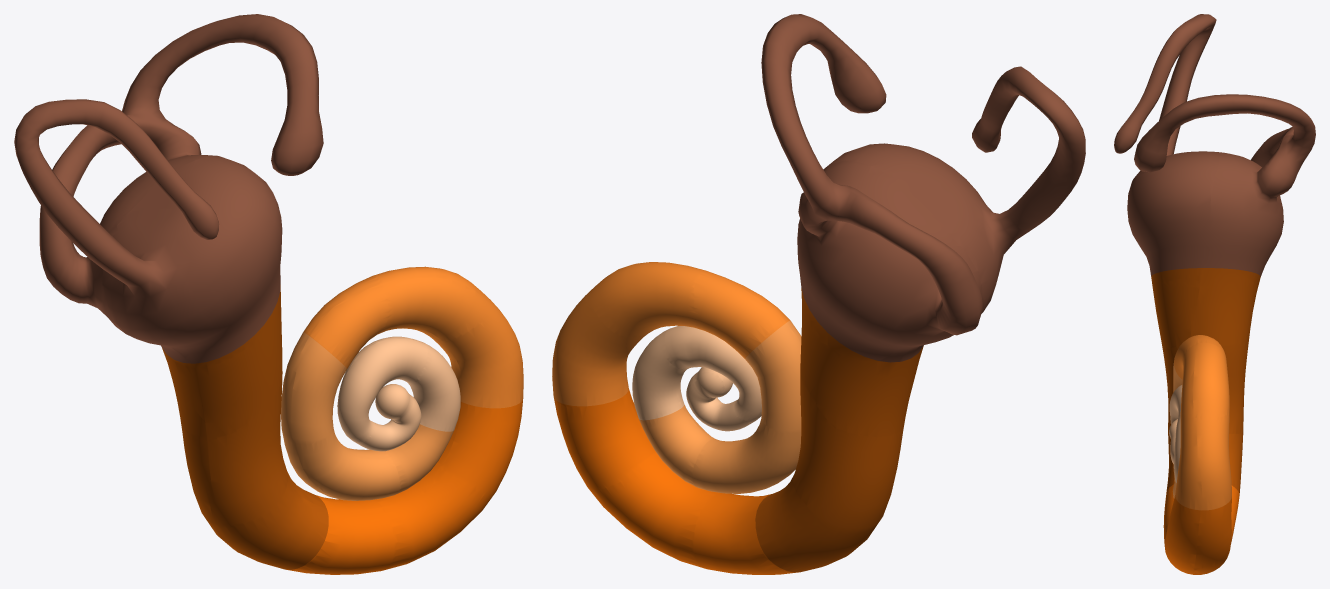
File: Ear Destroyable Smooth.FBX
3 views of the same model, side by side, from view 1: azimuth 30°, elevation 25°; view 2: azimuth 150°, elevation 25°; view 3: azimuth 270°, elevation 25° (orthographic). The views are drawn at different scales.
Parts seen in each view (by area): view 1: Plane037, Plane021, Plane035, Plane036, Plane031, Plane034, Plane032, Plane030, Plane029, Plane038, Plane033, Plane026 (+12 smaller); view 2: Plane021, Plane037, Plane019, Plane020, Plane016, Plane013, Plane015, Plane014, Plane018, Plane010, Plane017, Plane012 (+5 smaller); view 3: Plane021, Plane037, Plane020, Plane015, Plane036, Plane013, Plane031, Plane014, Plane030, Plane019, Plane029, Plane018 (+8 smaller).
Boxes of the visible parts, bbox=[...] form: Plane037: bbox=[14, 99, 282, 368]; Plane021: bbox=[39, 14, 323, 367]; Plane035: bbox=[208, 371, 287, 528]; Plane036: bbox=[190, 294, 282, 440]; Plane031: bbox=[441, 302, 523, 408]; Plane034: bbox=[216, 479, 328, 569]; Plane032: bbox=[383, 470, 489, 569]; Plane030: bbox=[442, 398, 523, 499]; Plane029: bbox=[381, 277, 489, 340]; Plane038: bbox=[337, 338, 428, 442]; Plane033: bbox=[288, 507, 397, 574]; Plane026: bbox=[294, 427, 401, 500]; Plane021: bbox=[761, 14, 983, 362]; Plane037: bbox=[823, 66, 1085, 313]; Plane019: bbox=[792, 370, 904, 533]; Plane020: bbox=[800, 297, 922, 437]; Plane016: bbox=[595, 453, 718, 567]; Plane013: bbox=[586, 262, 708, 337]; Plane015: bbox=[552, 293, 645, 408]; Plane014: bbox=[553, 393, 656, 496]; Plane018: bbox=[756, 475, 875, 572]; Plane010: bbox=[690, 419, 801, 493]; Plane017: bbox=[690, 492, 800, 574]; Plane012: bbox=[693, 272, 784, 358]; Plane021: bbox=[1134, 94, 1315, 287]; Plane037: bbox=[1114, 14, 1220, 282]; Plane020: bbox=[1190, 277, 1257, 351]; Plane015: bbox=[1194, 415, 1231, 510]; Plane036: bbox=[1152, 277, 1201, 349]; Plane013: bbox=[1192, 342, 1229, 418]; Plane031: bbox=[1175, 417, 1203, 510]; Plane014: bbox=[1193, 498, 1231, 567]; Plane030: bbox=[1165, 495, 1201, 566]; Plane019: bbox=[1220, 342, 1247, 434]; Plane029: bbox=[1180, 343, 1197, 419]; Plane018: bbox=[1229, 433, 1242, 494].
Size of the model in its own units: 506890 by 530097 by 223358.
6 materials, 6 textured.
